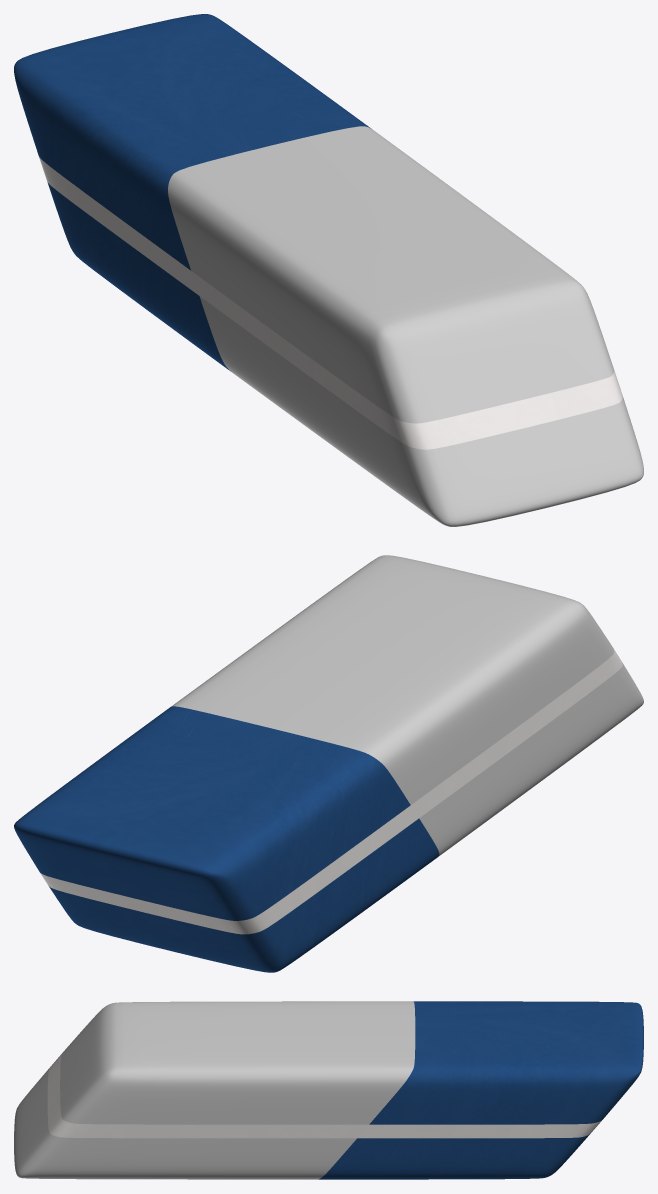
Rendered from rubber.fbx.
The picture shows the model from 3 angles, top to bottom: view 1: azimuth 30°, elevation 25°; view 2: azimuth 150°, elevation 25°; view 3: azimuth 270°, elevation 25°; orthographic projection. The views are drawn at different scales.
Parts seen in each view (by area): view 1: rubber; view 2: rubber; view 3: rubber.
Boxes of the visible parts, x1,y1,x2,y2 form: rubber: (14,14,643,526); rubber: (14,555,643,972); rubber: (14,1001,643,1179).
Size of the model in its own units: 200 by 140 by 693.
